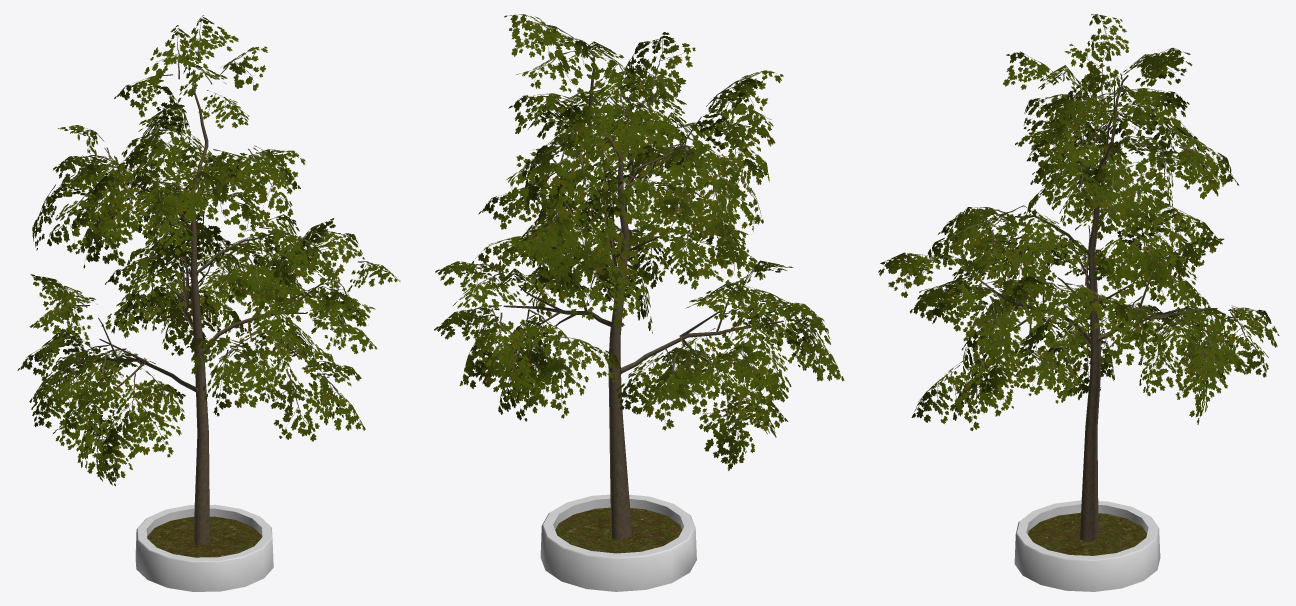
Rendered from nc_tree_10.fbx.
3 views of the same model, side by side, from view 1: azimuth 30°, elevation 25°; view 2: azimuth 150°, elevation 25°; view 3: azimuth 270°, elevation 25° (orthographic). The views are drawn at different scales.
Visible parts, largest first — view 1: nc_tree_10_LOD0; view 2: nc_tree_10_LOD0; view 3: nc_tree_10_LOD0.
Boxes of the visible parts, left/top/right/bottom form: nc_tree_10_LOD0: left=17, top=15, right=400, bottom=591; nc_tree_10_LOD0: left=434, top=14, right=844, bottom=591; nc_tree_10_LOD0: left=878, top=14, right=1279, bottom=591.
Size of what is drawn, in the model's own units: 2.73 by 3.96 by 2.78.
